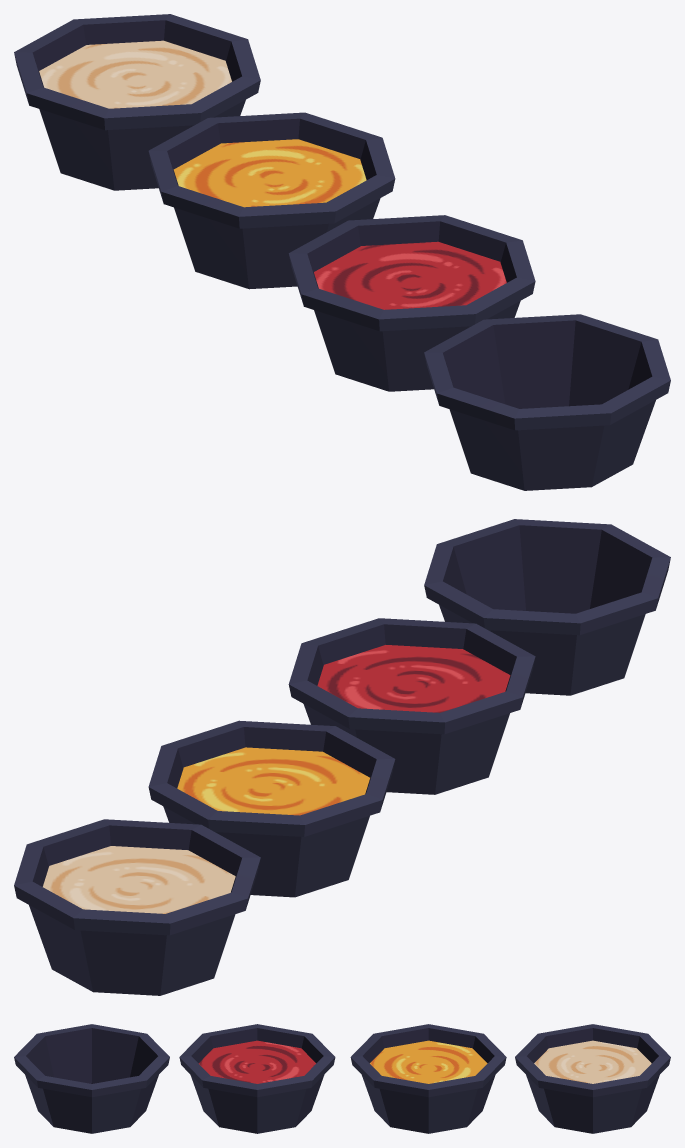
File: f_saucecontainers.fbx
3 views of the same model, one above another, from view 1: azimuth 30°, elevation 25°; view 2: azimuth 150°, elevation 25°; view 3: azimuth 270°, elevation 25° (orthographic). The views are drawn at different scales.
Parts seen in each view (by area): view 1: f_saucecontainer_empty, f_saucecontainer_02, f_saucecontainer_01, f_saucecontainer_03; view 2: f_saucecontainer_03, f_saucecontainer_01, f_saucecontainer_empty, f_saucecontainer_02; view 3: f_saucecontainer_01, f_saucecontainer_02, f_saucecontainer_03, f_saucecontainer_empty.
Part boxes in pixels (left/top/right/bottom): f_saucecontainer_empty: left=424, top=314, right=670, bottom=490; f_saucecontainer_02: left=148, top=112, right=395, bottom=289; f_saucecontainer_01: left=288, top=215, right=535, bottom=391; f_saucecontainer_03: left=14, top=14, right=260, bottom=190; f_saucecontainer_03: left=14, top=819, right=260, bottom=995; f_saucecontainer_01: left=288, top=618, right=535, bottom=794; f_saucecontainer_empty: left=424, top=519, right=670, bottom=695; f_saucecontainer_02: left=148, top=720, right=395, bottom=897; f_saucecontainer_01: left=179, top=1024, right=335, bottom=1133; f_saucecontainer_02: left=350, top=1024, right=506, bottom=1133; f_saucecontainer_03: left=515, top=1024, right=670, bottom=1133; f_saucecontainer_empty: left=14, top=1024, right=169, bottom=1133.
Size of the model in its own units: 85.49 by 20.31 by 7.9.
